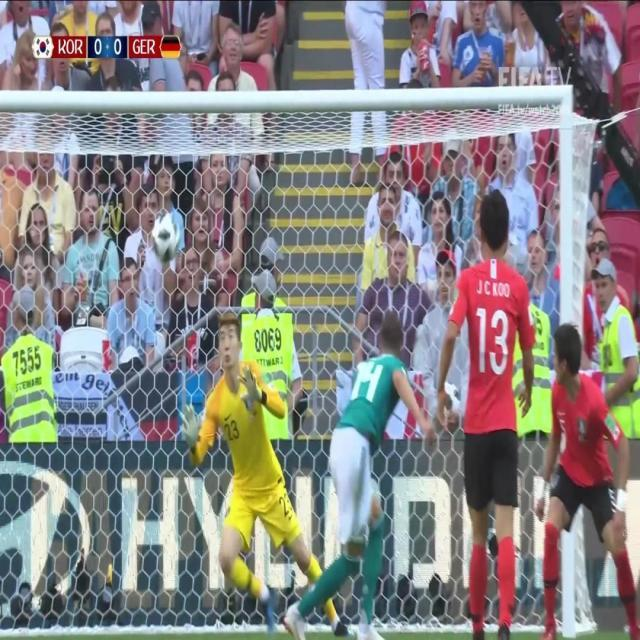ball: (148, 205, 185, 261)
goalkeeper: (178, 321, 338, 629)
player: (434, 177, 546, 640), (298, 310, 429, 628), (528, 309, 640, 635)
